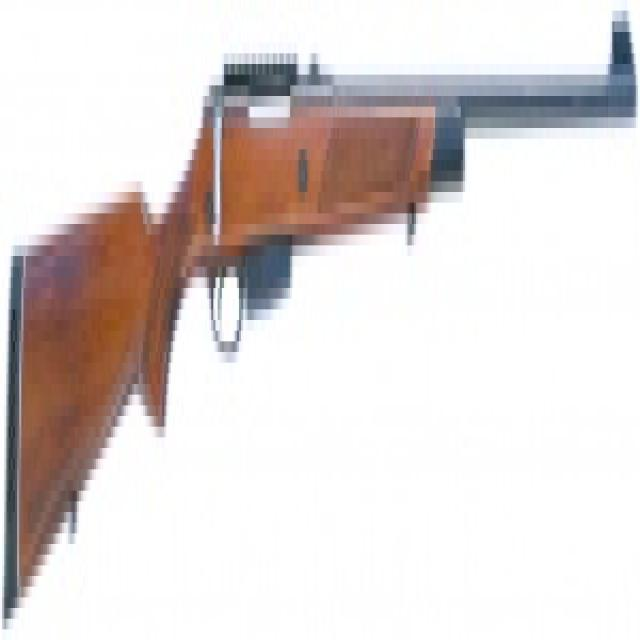rifle: (1, 13, 639, 627)
